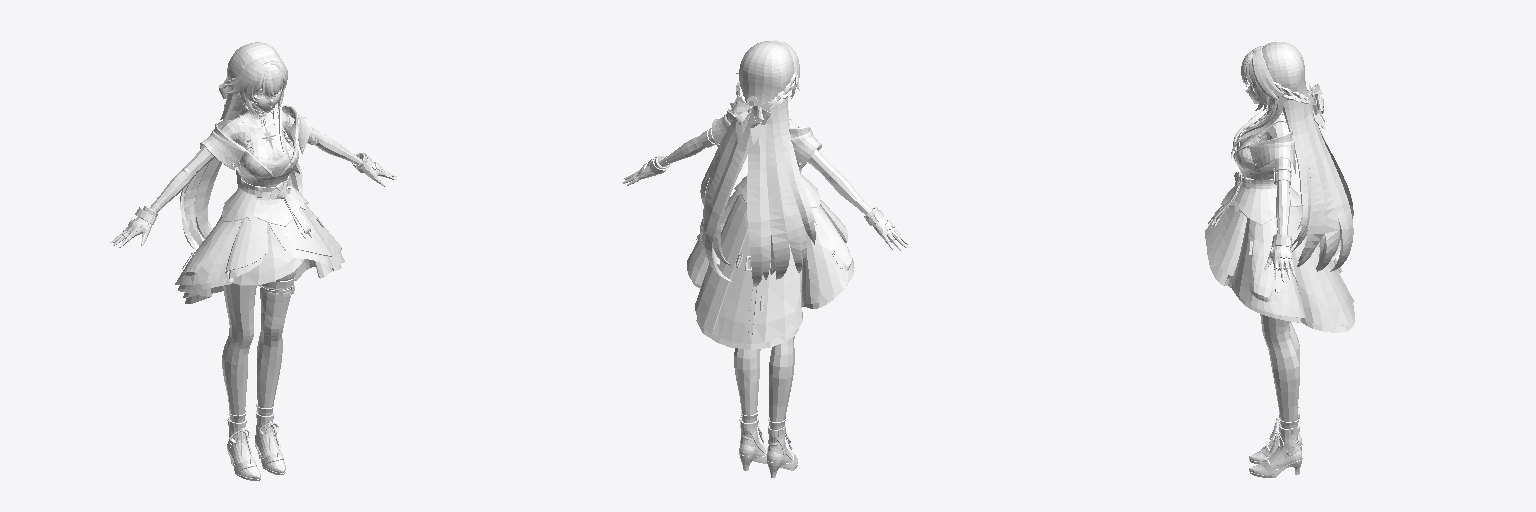
Rendered from xinhui.obj.
3 renders of one model, left to right at view 1: azimuth 30°, elevation 25°; view 2: azimuth 150°, elevation 25°; view 3: azimuth 270°, elevation 25°, orthographic.
Visible parts, largest first — view 1: 星绘162_mesh; view 2: 星绘162_mesh; view 3: 星绘162_mesh.
Part boxes in pixels (x1,y1,x2,y2): 星绘162_mesh: (110,42,397,480); 星绘162_mesh: (622,40,909,477); 星绘162_mesh: (1205,42,1354,477).
Bounding box in the file's own units: 1.17 × 1.66 × 0.535.